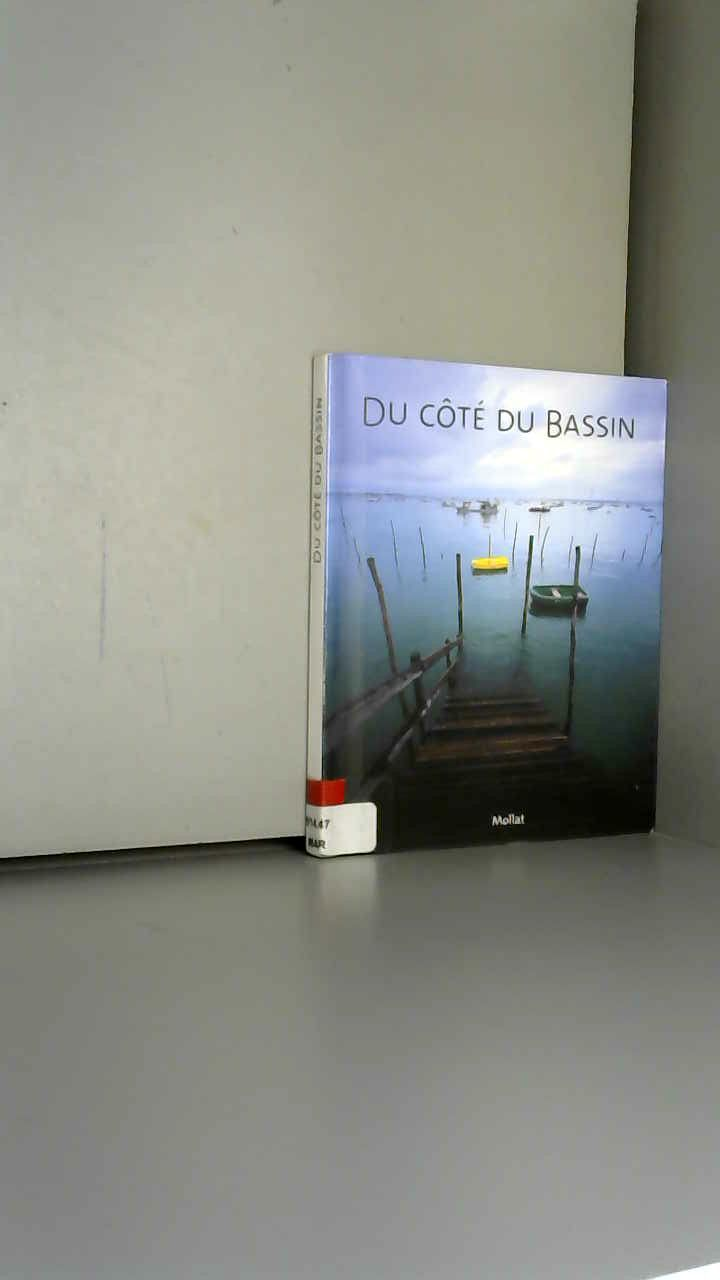book: (300, 330, 720, 882)
